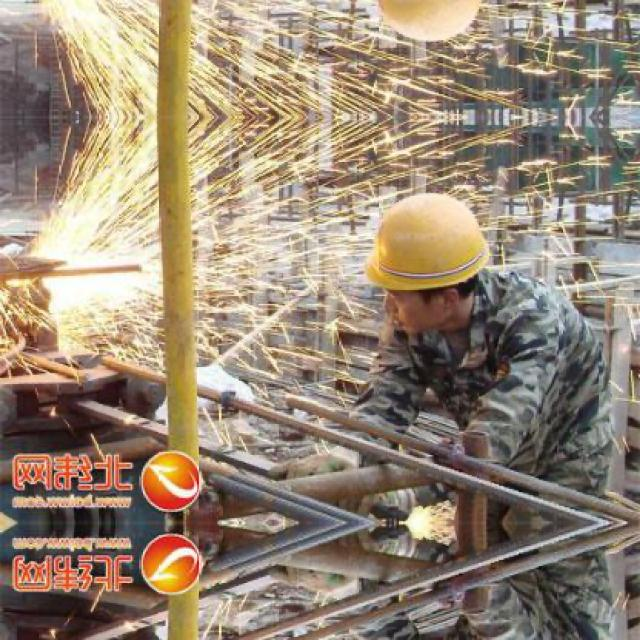con casco: (330, 147, 564, 373)
